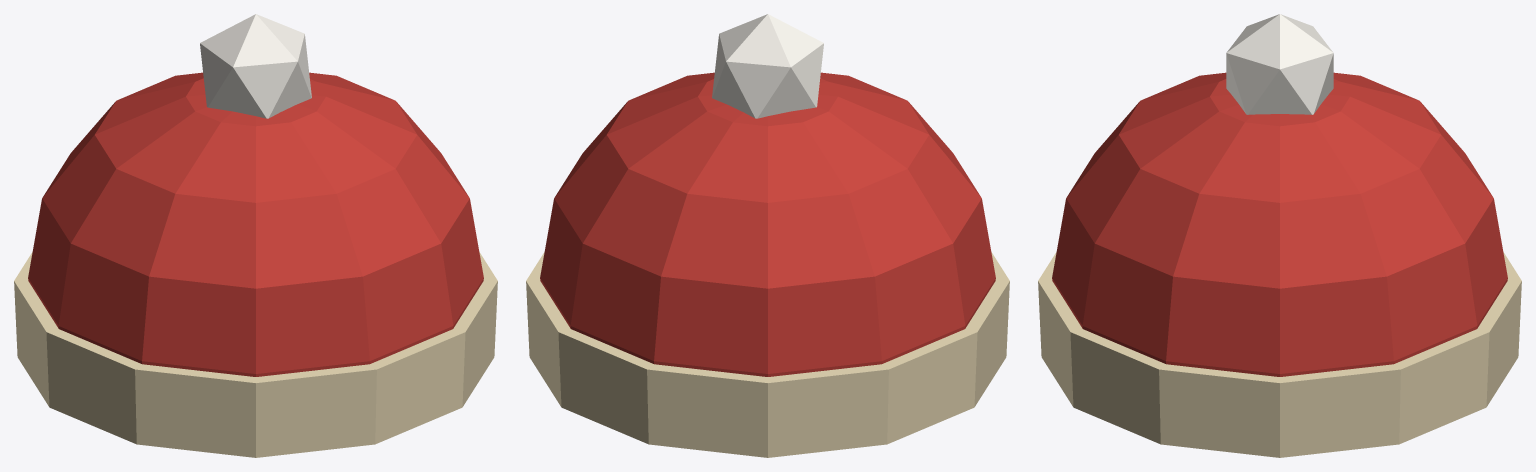
The model's file is COS_Beanie.fbx.
3 views of the same model, side by side, from view 1: azimuth 30°, elevation 25°; view 2: azimuth 150°, elevation 25°; view 3: azimuth 270°, elevation 25° (orthographic).
Visible parts, largest first — view 1: COS_Beanie; view 2: COS_Beanie; view 3: COS_Beanie.
Boxes of the visible parts, x1,y1,x2,y2 form: COS_Beanie: [14, 14, 497, 457]; COS_Beanie: [526, 14, 1009, 457]; COS_Beanie: [1038, 14, 1521, 457].
Size of the model in its own units: 1.38 by 1.08 by 1.38.
